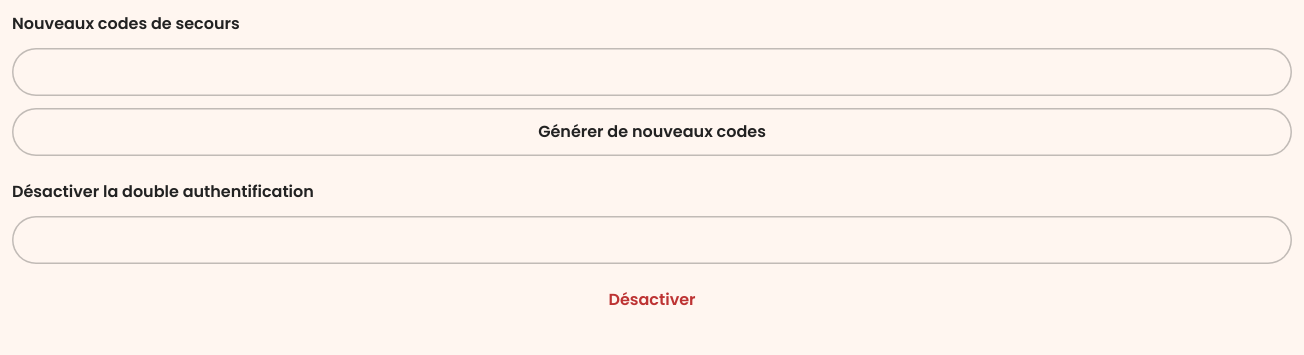
Test: double authentification du compte (RG-AUTH-04) › autre compte : désactivation par un code ou un code de secours
Type "AAAA-1111" into the field named "Code ou code de secours" at coordinates (652, 240), box [12,216,1292,264]
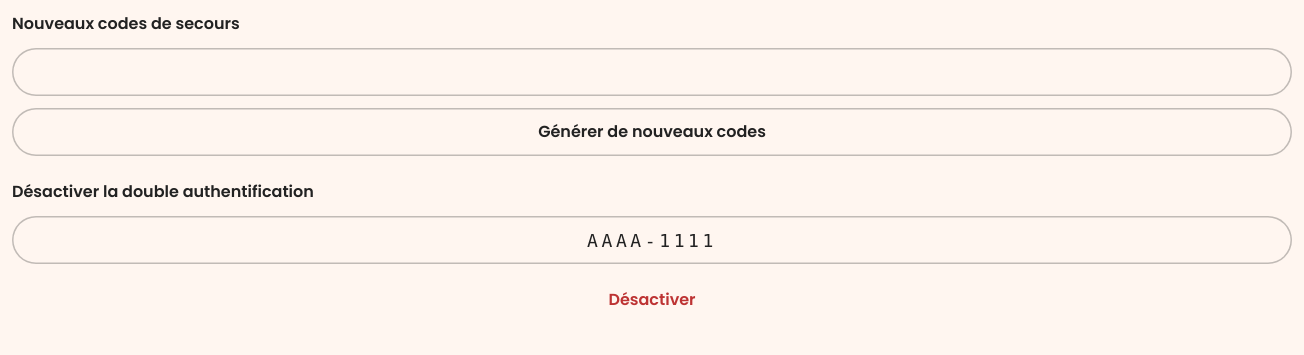
Submit the form "Désactiver", box [12,180,1292,324]
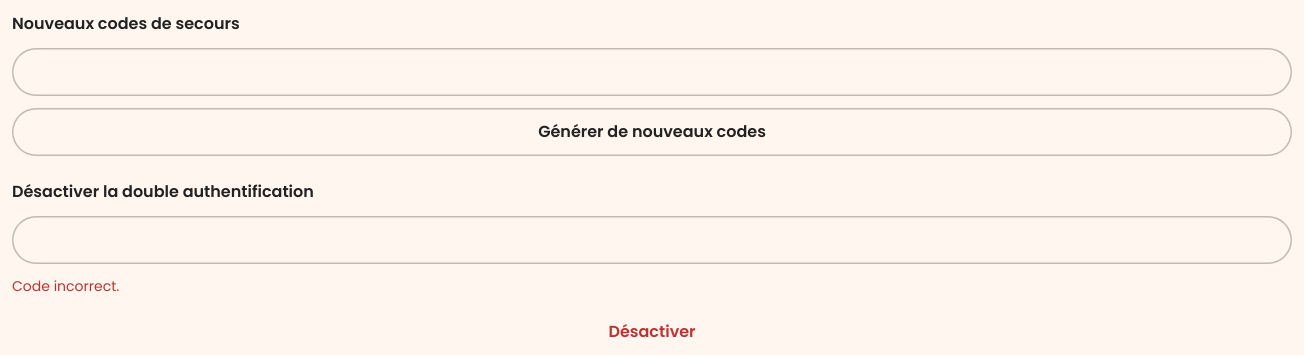
Expected: the text "Code incorrect." is shown, [12,276,119,296]
